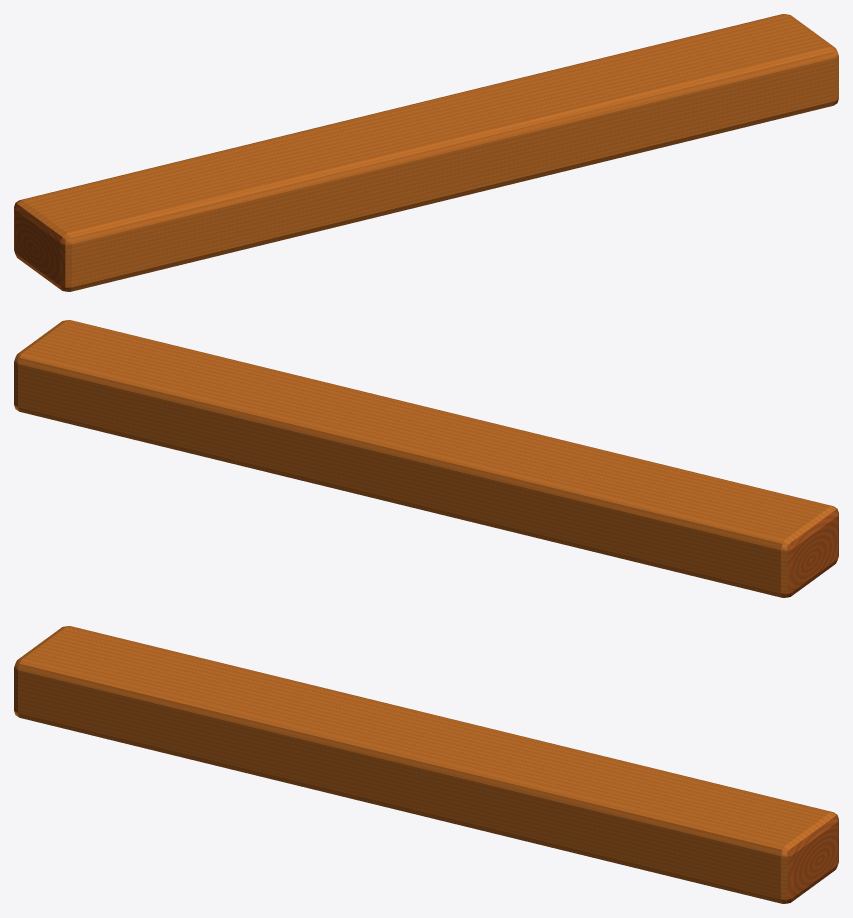
The model's file is Environment_Rail_Sleeper_001.glb.
3 renders of one model, top to bottom at view 1: azimuth 30°, elevation 25°; view 2: azimuth 150°, elevation 25°; view 3: azimuth 330°, elevation 25°, orthographic.
Visible parts, largest first — view 1: Sleeper_Static; view 2: Sleeper_Static; view 3: Sleeper_Static.
Boxes of the visible parts, left/top/right/bottom form: Sleeper_Static: left=14, top=14, right=838, bottom=291; Sleeper_Static: left=14, top=320, right=838, bottom=597; Sleeper_Static: left=14, top=626, right=838, bottom=903.
Bounding box in the file's own units: 2.5 × 0.18 × 0.3.
1 material, 1 textured.
